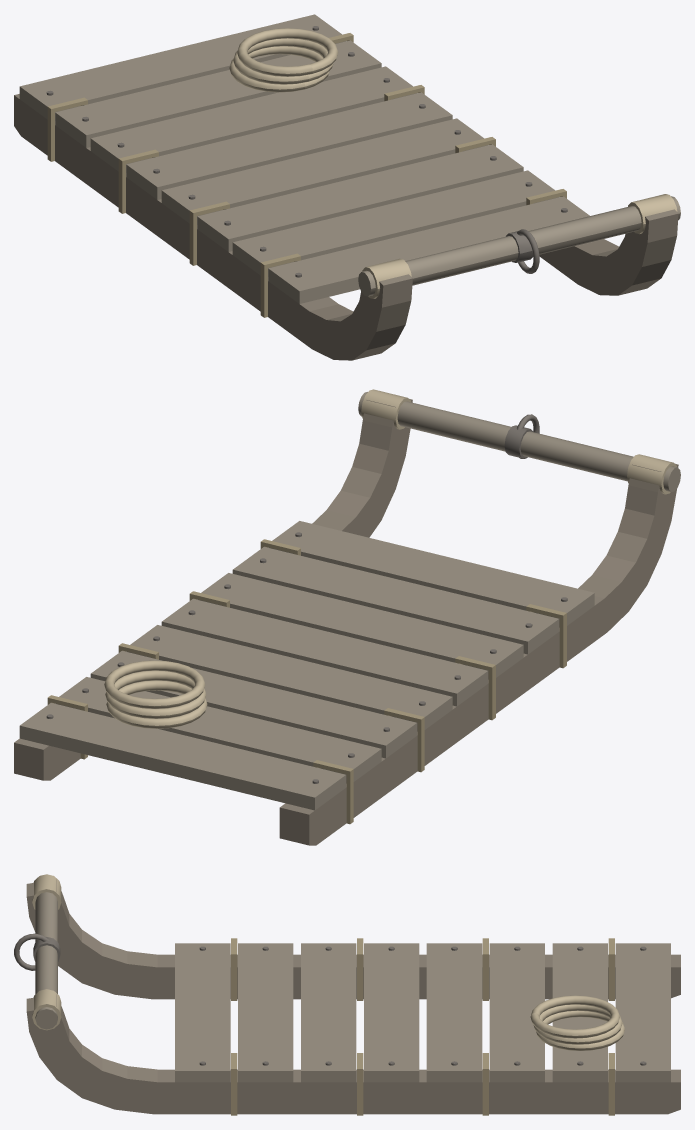
File: wine-sledge.glb
The picture shows the model from 3 angles, top to bottom: view 1: azimuth 30°, elevation 25°; view 2: azimuth 150°, elevation 25°; view 3: azimuth 270°, elevation 25°; orthographic projection. The views are drawn at different scales.
Visible parts, largest first — view 1: bow-bar; view 2: bow-bar; view 3: bow-bar.
Part boxes in pixels (x1,y1,x2,y2): bow-bar: [14, 14, 680, 360]; bow-bar: [14, 389, 680, 845]; bow-bar: [14, 874, 680, 1115].
Bounding box in the file's own units: 1.26 × 0.5103 × 2.65.
